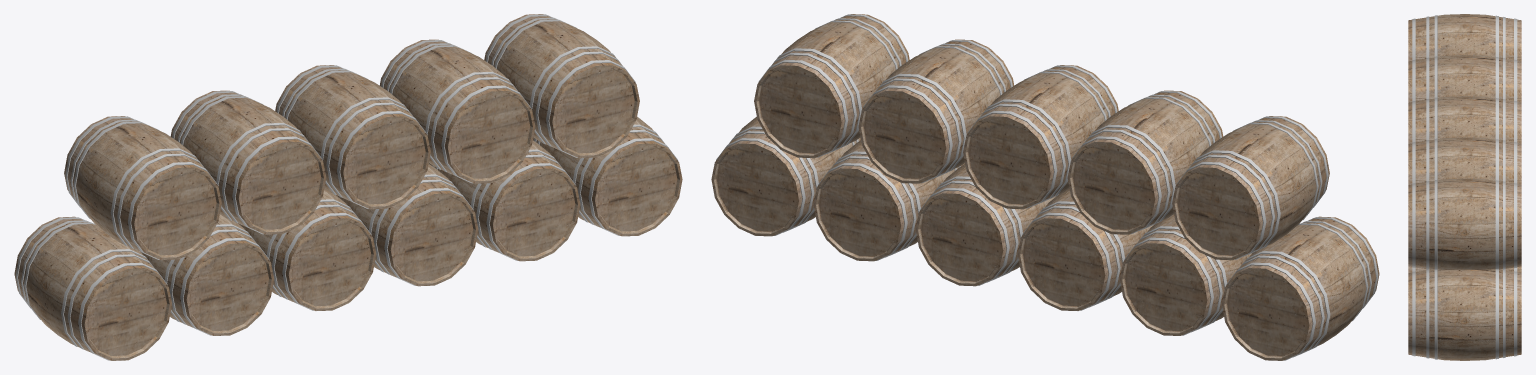
The model's file is woddenBarrelStack01.FBX.
3 renders of one model, left to right at view 1: azimuth 30°, elevation 25°; view 2: azimuth 150°, elevation 25°; view 3: azimuth 270°, elevation 25°, orthographic. The views are drawn at different scales.
Visible parts, largest first — view 1: woodenBarrelStack01; view 2: woodenBarrelStack01; view 3: woodenBarrelStack01.
Boxes of the visible parts, x1=… form: woodenBarrelStack01: x1=14, y1=14, x2=682, y2=360; woodenBarrelStack01: x1=711, y1=14, x2=1379, y2=360; woodenBarrelStack01: x1=1408, y1=14, x2=1521, y2=360.
Bounding box in the file's own units: 4.53 × 1.38 × 0.9.
